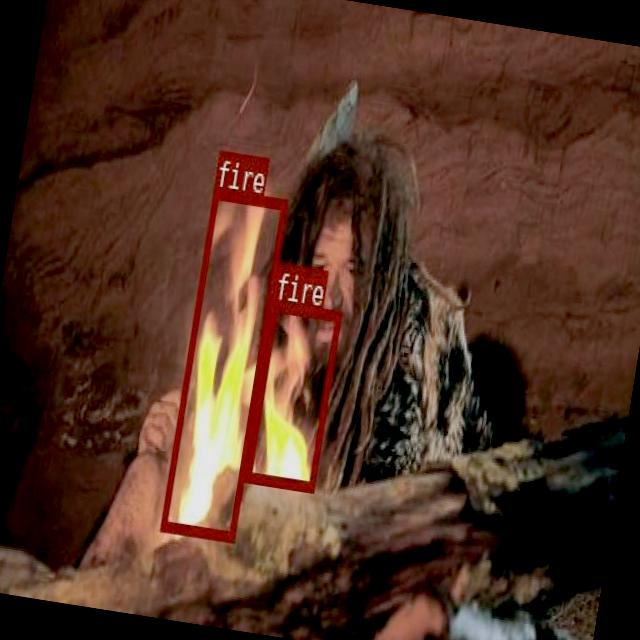fire: (160, 188, 288, 541), (245, 298, 342, 490)
